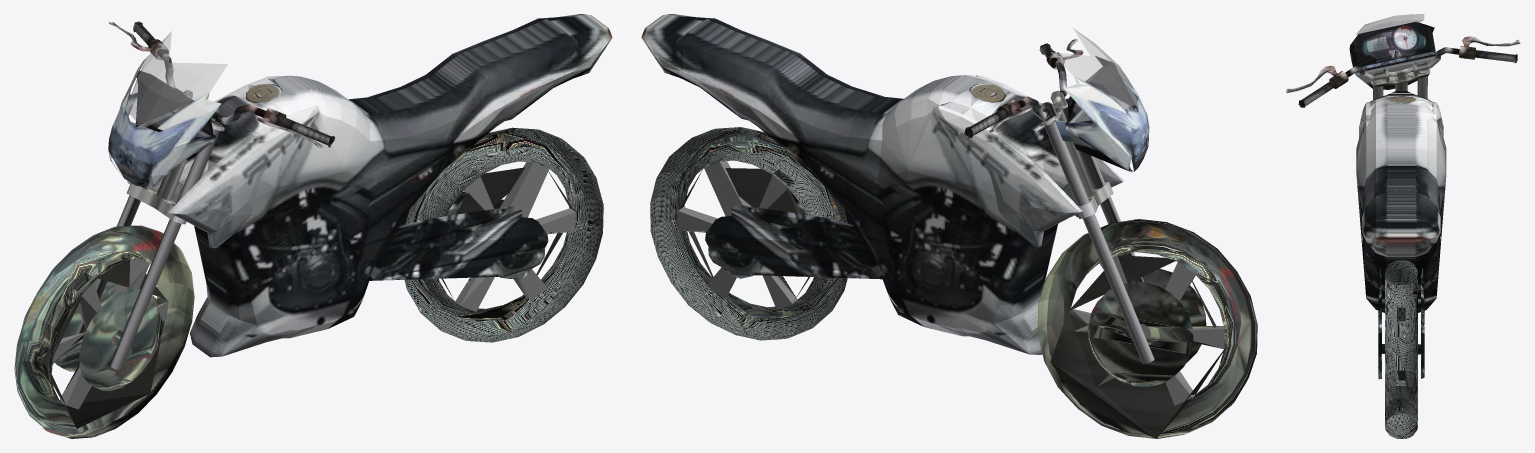
The model's file is apache.glb.
3 renders of one model, left to right at view 1: azimuth 30°, elevation 25°; view 2: azimuth 150°, elevation 25°; view 3: azimuth 270°, elevation 25°, orthographic. The views are drawn at different scales.
Parts seen in each view (by area): view 1: Material2 (×6), Material3 (×2); view 2: Material2 (×6), Material3 (×2); view 3: Material2 (×6).
Part boxes in pixels (box(x1,y1,x2,y2)): Material2 (×6): box(41, 14, 612, 428); Material3 (×2): box(14, 162, 575, 438); Material2 (×6): box(641, 14, 1226, 438); Material3 (×2): box(678, 161, 1257, 438); Material2 (×6): box(1286, 14, 1520, 438).
Bounding box in the file's own units: 7.21 × 4.33 × 3.13.
8 materials, 6 textured.
